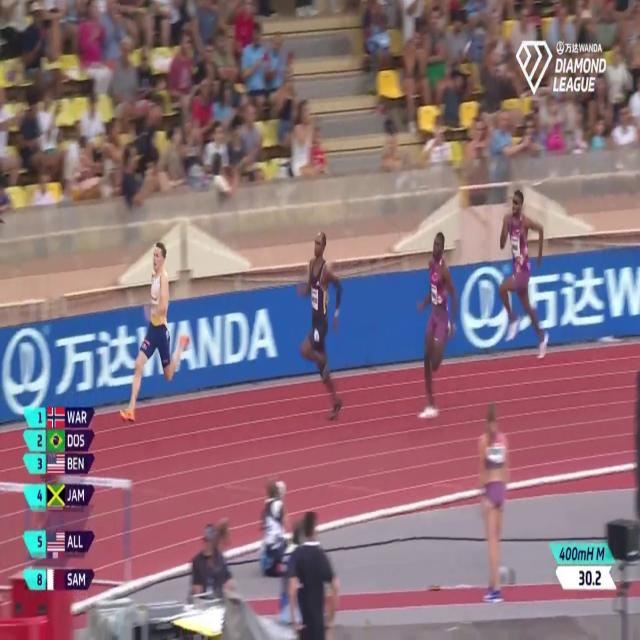athlete: (118, 235, 190, 436), (494, 179, 554, 367), (294, 222, 346, 433), (417, 224, 461, 442)
